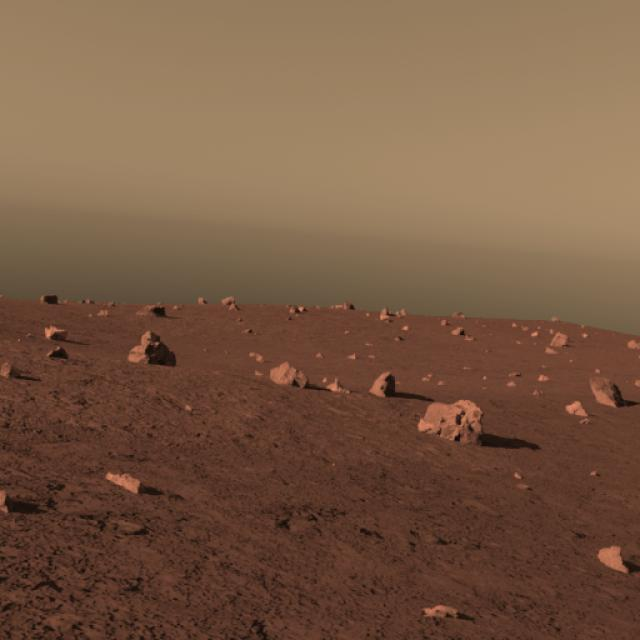rock: (417, 393, 485, 447), (124, 328, 178, 370)
